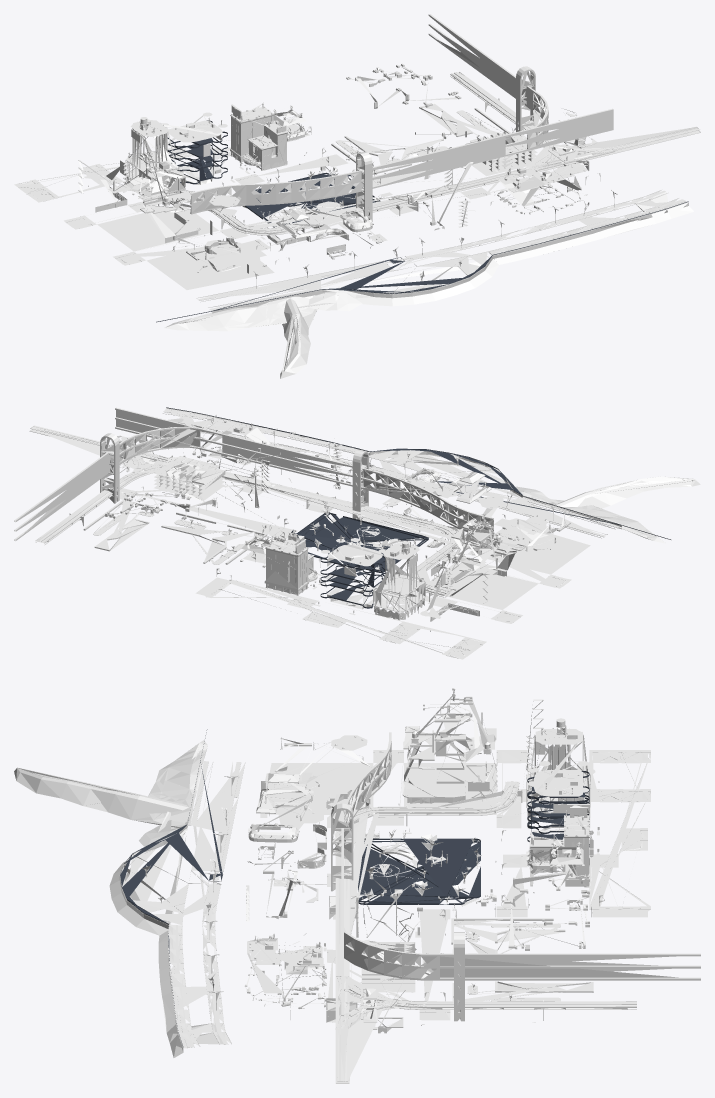
Rendered from street_island1_04.glb.
The picture shows the model from 3 angles, top to bottom: view 1: azimuth 30°, elevation 25°; view 2: azimuth 150°, elevation 25°; view 3: azimuth 270°, elevation 25°; orthographic projection. The views are drawn at different scales.
Parts seen in each view (by area): view 1: seg_693, seg_677, seg_688, seg_1484, seg_1344, seg_1367, seg_1485, seg_1483, seg_1343, seg_1104, seg_1359, seg_1285 (+26 smaller); view 2: seg_693, seg_1483, seg_1367, seg_677, seg_1515, seg_1344, seg_1485, seg_1484, seg_660, seg_1399, seg_1292, seg_1101 (+29 smaller); view 3: seg_1367, seg_693, seg_677, seg_1515, seg_1483, seg_688, seg_1485, seg_1104, seg_1292, seg_1484, seg_1479, seg_530 (+30 smaller).
Part boxes in pixels (box(x1,y1,x2,y2)): seg_693: box(196, 242, 498, 313); seg_677: box(164, 291, 362, 378); seg_688: box(475, 190, 693, 264); seg_1484: box(146, 240, 274, 289); seg_1344: box(361, 135, 505, 191); seg_1367: box(428, 14, 548, 148); seg_1485: box(97, 205, 218, 251); seg_1483: box(14, 119, 309, 229); seg_1343: box(505, 108, 613, 156); seg_1104: box(525, 127, 700, 171); seg_1359: box(276, 170, 361, 204); seg_1285: box(498, 143, 581, 206); seg_693: box(369, 449, 623, 538); seg_1483: box(195, 577, 522, 659); seg_1367: box(14, 426, 200, 541); seg_677: box(507, 476, 700, 543); seg_1515: box(291, 512, 428, 572); seg_1344: box(221, 433, 363, 488); seg_1485: box(430, 563, 538, 609); seg_1484: box(467, 528, 590, 574); seg_660: box(154, 456, 225, 500); seg_1399: box(264, 541, 308, 595); seg_1292: box(321, 538, 423, 611); seg_1101: box(223, 472, 458, 546); seg_1367: box(344, 927, 700, 980); seg_693: box(109, 761, 245, 935); seg_677: box(14, 740, 207, 846); seg_1515: box(358, 838, 480, 904); seg_1483: box(496, 750, 650, 917); seg_688: box(158, 924, 231, 1057); seg_1485: box(404, 763, 496, 814); seg_1104: box(327, 976, 398, 1083); seg_1292: box(528, 729, 588, 810); seg_1484: box(261, 763, 373, 814); seg_1479: box(327, 909, 450, 1022); seg_530: box(451, 918, 565, 953).
Size of the model in its own units: 559 by 80.83 by 445.
